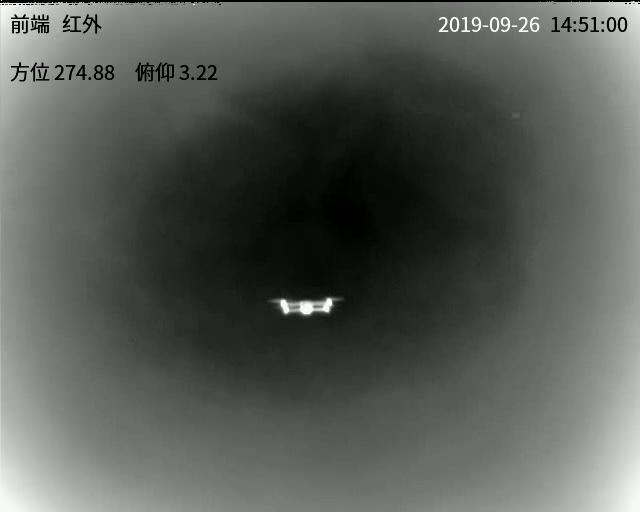DRONE: (270, 298, 340, 316)
